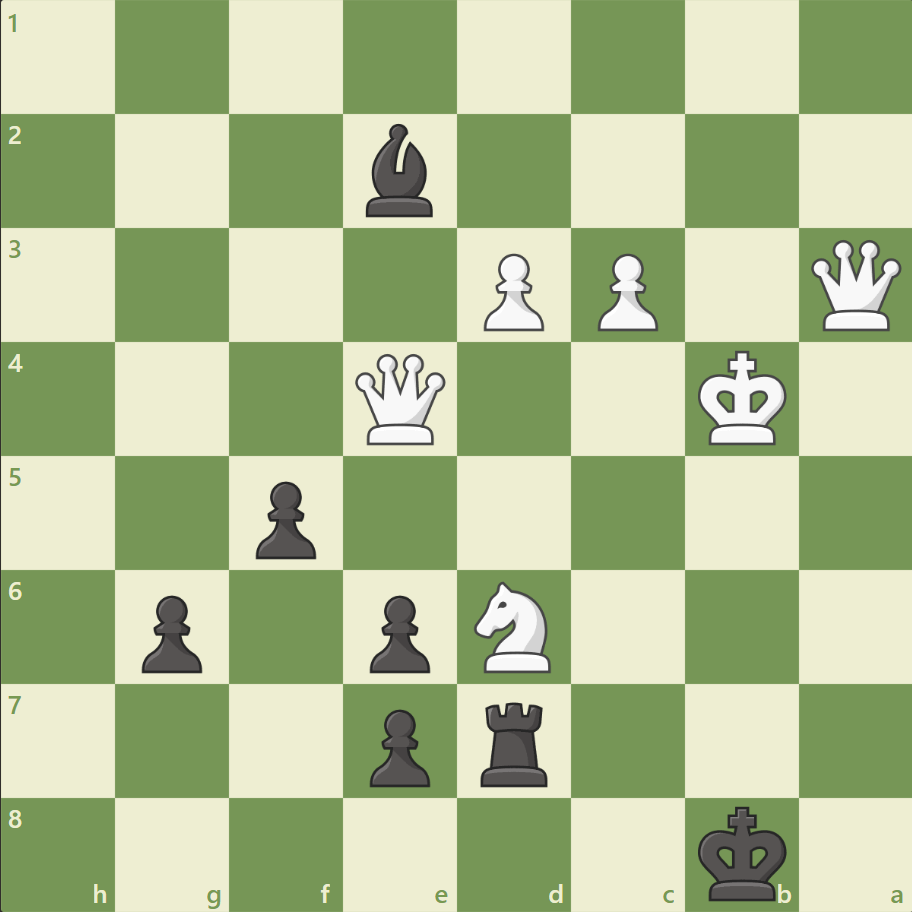K: (692, 344, 792, 452)
N: (465, 575, 562, 677)
P: (474, 246, 549, 337), (588, 246, 662, 337)
Q: (351, 349, 450, 449), (805, 236, 904, 335)
b: (358, 120, 442, 222)
k: (692, 798, 792, 906)
p: (133, 586, 208, 677), (247, 473, 322, 564), (361, 700, 435, 791), (361, 586, 435, 677)
r: (473, 693, 556, 790)
